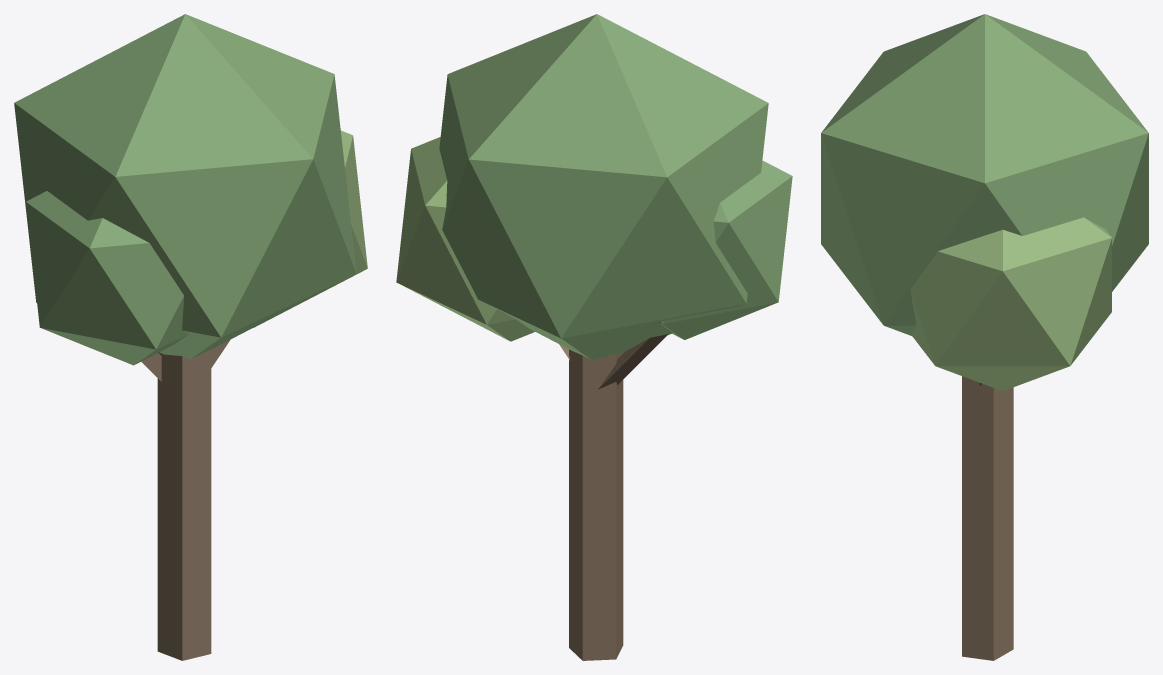
Rendered from tree-lod1.glb.
3 views of the same model, side by side, from view 1: azimuth 30°, elevation 25°; view 2: azimuth 150°, elevation 25°; view 3: azimuth 270°, elevation 25° (orthographic).
Parts seen in each view (by area): view 1: canopy_core, canopy_back, trunk, canopy_side; view 2: canopy_core, trunk, canopy_side, canopy_back, branch_west; view 3: canopy_core, canopy_side, trunk.
Boxes of the visible parts, x1,y1,x2,y2 form: canopy_core: (14, 14, 356, 359); canopy_back: (26, 191, 188, 365); trunk: (157, 349, 211, 660); canopy_side: (253, 130, 367, 327); canopy_core: (439, 14, 768, 359); trunk: (569, 349, 623, 660); canopy_side: (396, 137, 534, 341); canopy_back: (659, 160, 792, 339); branch_west: (598, 334, 668, 389); canopy_core: (821, 14, 1148, 335); canopy_side: (910, 217, 1111, 391); trunk: (962, 376, 1013, 660).
Bounding box in the file's own units: 2.2 × 3.93 × 1.84.
